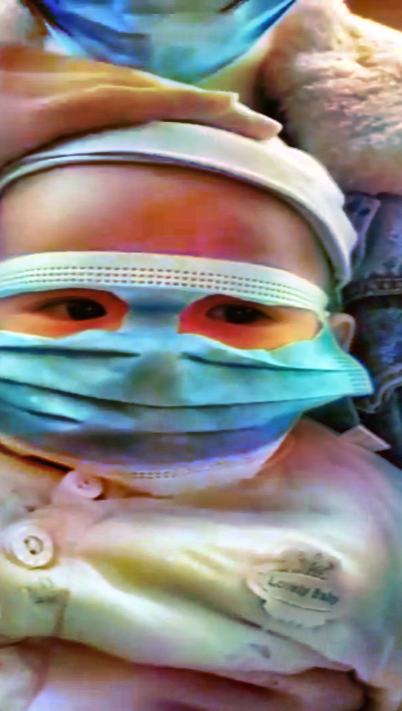mask_weared_incorrect: (1, 134, 368, 475)
